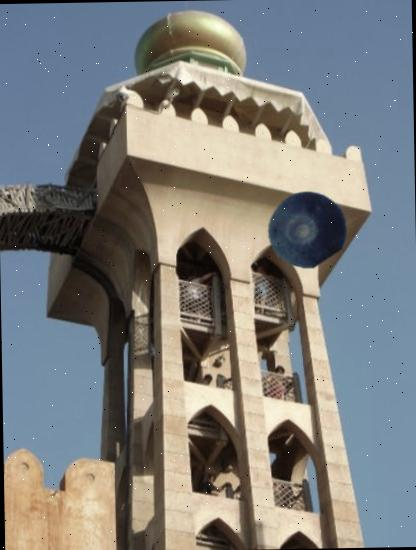Huckleberry: (266, 189, 346, 269)
